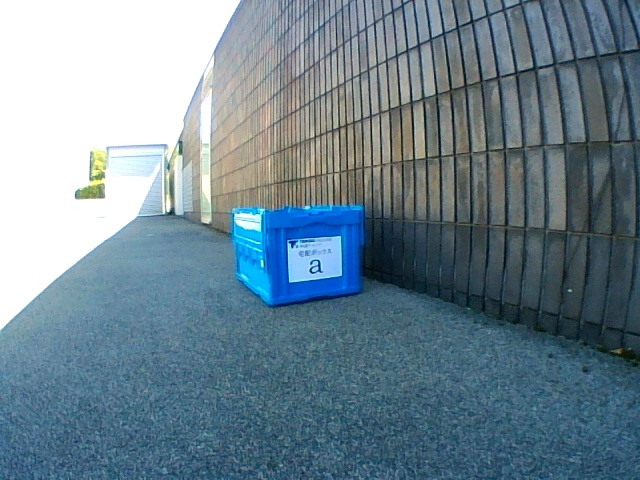blue_box: (231, 206, 363, 305)
tag_a: (294, 242, 338, 277)
